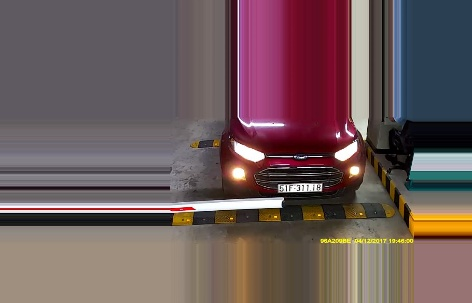plate: (275, 180, 323, 195)
